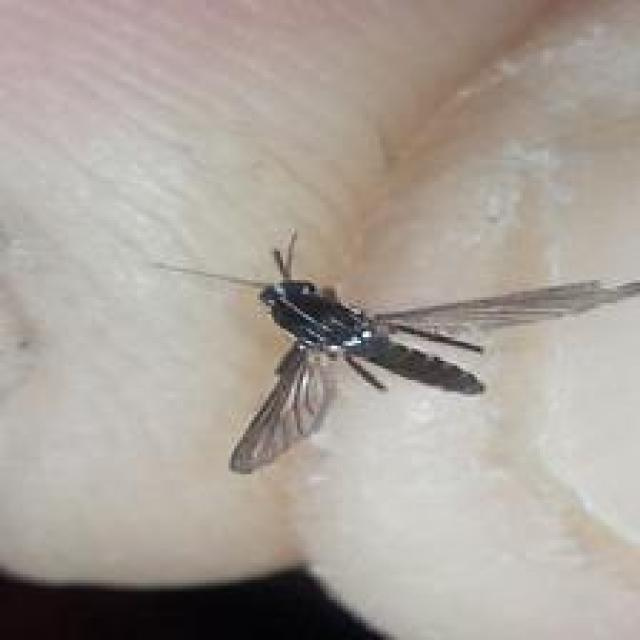Aedes albopictus: (151, 227, 640, 476)
